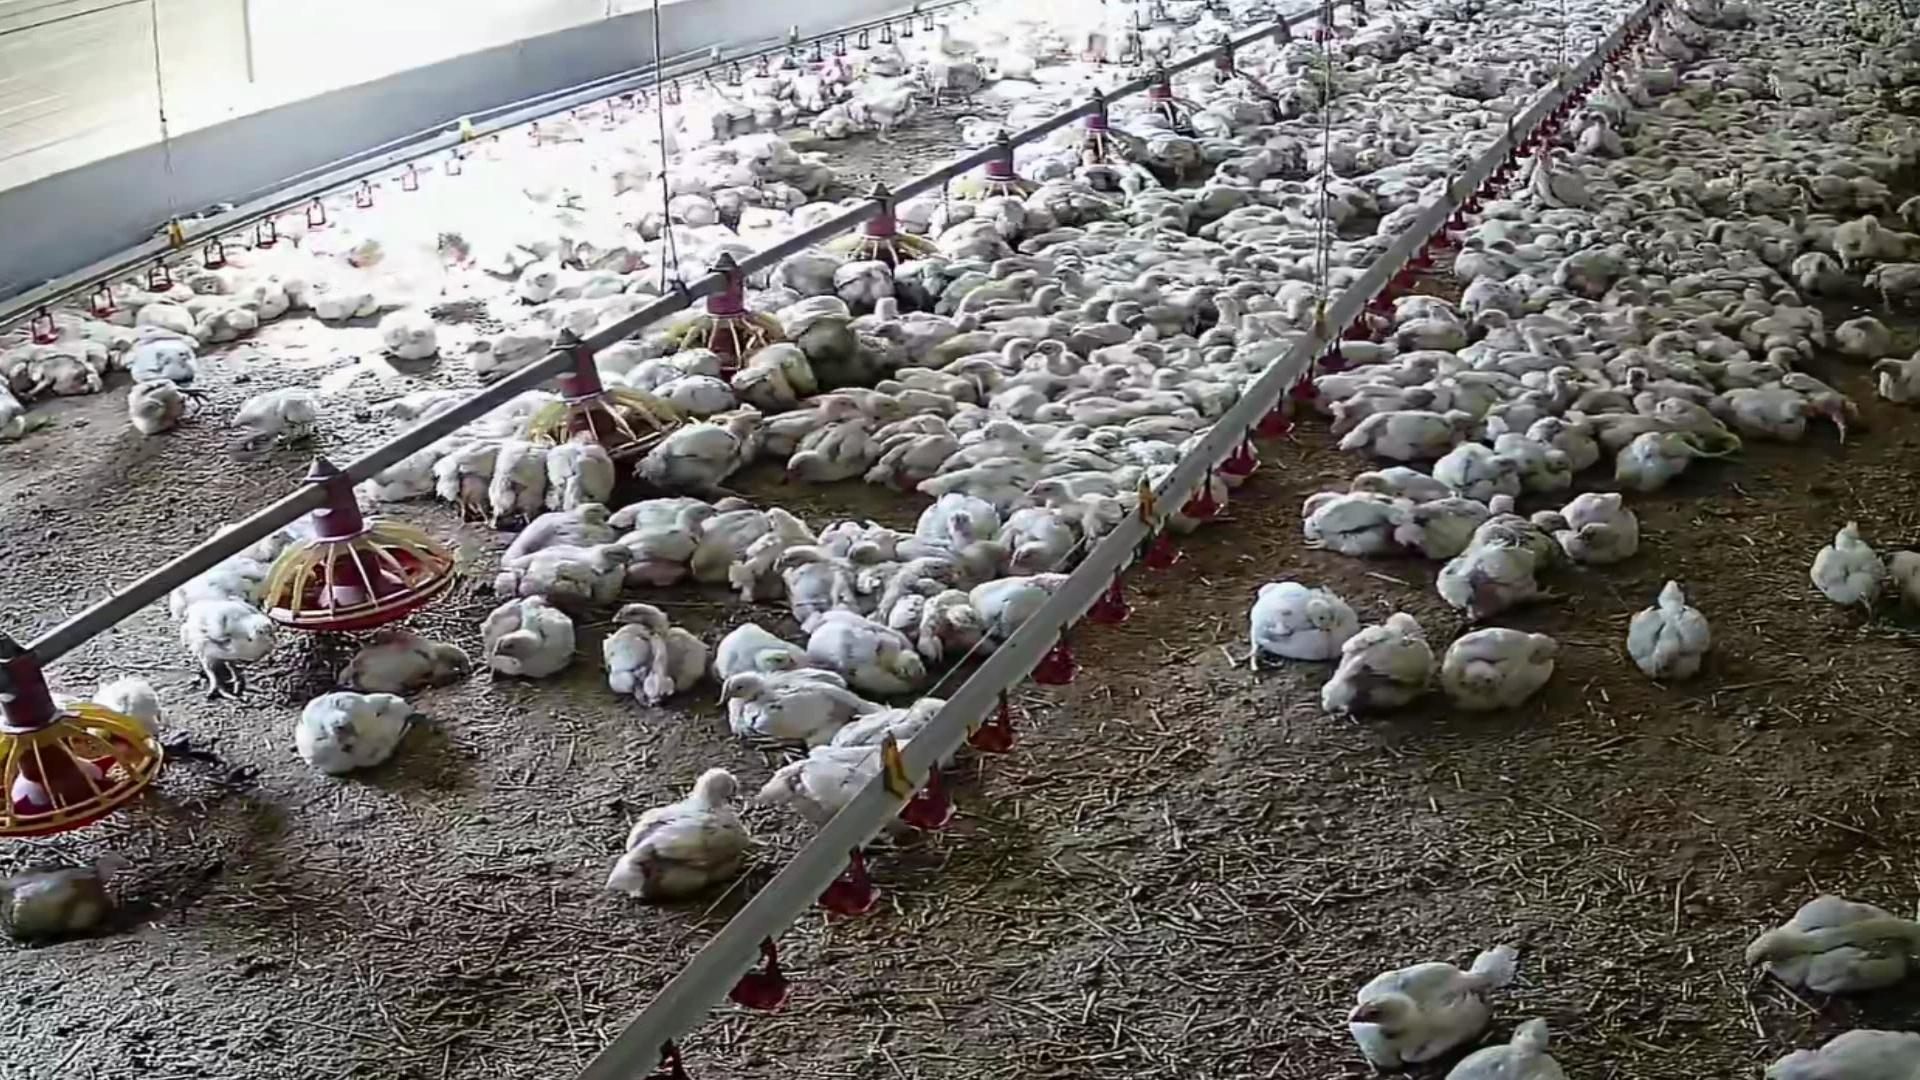poussin: (774, 735, 922, 873), (1737, 889, 1919, 998), (604, 767, 750, 895), (1353, 947, 1520, 1047), (1444, 615, 1568, 719), (0, 847, 129, 944), (1403, 1006, 1572, 1080), (1332, 607, 1433, 724), (1238, 574, 1352, 676), (595, 600, 702, 698), (717, 670, 856, 745), (179, 609, 294, 699), (837, 703, 969, 779), (291, 696, 413, 778), (1763, 1017, 1916, 1080), (804, 612, 919, 695), (1633, 580, 1712, 696), (1344, 401, 1490, 463), (472, 593, 583, 674), (600, 498, 715, 574), (505, 538, 640, 600), (717, 498, 818, 582), (1808, 518, 1883, 621), (1305, 479, 1402, 556), (1604, 427, 1734, 484), (658, 417, 748, 495), (960, 578, 1081, 633), (501, 501, 617, 558), (1419, 447, 1538, 502), (342, 634, 467, 686), (1382, 491, 1474, 559), (95, 670, 170, 753), (687, 491, 764, 571), (1423, 546, 1545, 596), (713, 608, 800, 678), (1319, 381, 1445, 427), (1721, 390, 1834, 442), (785, 539, 858, 617), (1556, 498, 1652, 556), (1506, 357, 1601, 415), (171, 556, 266, 613), (1477, 440, 1589, 487), (935, 504, 997, 587), (435, 438, 502, 513), (928, 462, 1040, 505), (1305, 356, 1439, 392), (560, 430, 621, 506), (1146, 467, 1222, 527), (886, 418, 955, 485), (1782, 368, 1855, 430), (1484, 504, 1575, 554), (372, 439, 446, 500), (1634, 401, 1745, 440), (790, 435, 880, 484), (471, 331, 555, 382), (1001, 508, 1069, 571), (1564, 401, 1665, 443), (865, 556, 948, 608), (1606, 327, 1692, 376), (1031, 477, 1121, 524), (508, 434, 556, 517), (1394, 301, 1470, 353), (911, 592, 972, 658), (208, 526, 297, 570), (1792, 249, 1854, 310), (785, 291, 851, 348), (880, 319, 960, 364), (247, 385, 316, 436), (877, 372, 953, 418), (1137, 282, 1217, 326), (1349, 475, 1456, 506), (1398, 343, 1493, 378), (1437, 373, 1526, 411), (382, 309, 444, 363), (862, 84, 922, 138), (1829, 319, 1896, 367), (1075, 299, 1146, 344), (1869, 348, 1919, 411), (833, 256, 897, 306), (964, 338, 1034, 382), (309, 278, 378, 323), (978, 286, 1069, 320), (756, 349, 823, 396), (963, 269, 1038, 310), (1627, 367, 1712, 402), (1563, 247, 1630, 290), (1536, 156, 1592, 208), (654, 377, 740, 410), (1460, 274, 1548, 306), (951, 256, 1022, 294), (1873, 257, 1920, 314), (898, 247, 948, 299), (135, 343, 207, 377), (1845, 215, 1884, 277), (1468, 307, 1531, 345), (1890, 534, 1920, 613), (574, 232, 632, 273), (945, 216, 1000, 260), (128, 382, 194, 418), (931, 22, 980, 70), (862, 291, 913, 338), (1151, 140, 1212, 177), (1382, 290, 1466, 316), (1738, 319, 1832, 343), (1068, 465, 1135, 498), (1700, 164, 1754, 204), (796, 393, 856, 430), (844, 526, 913, 558), (1071, 361, 1131, 397), (0, 378, 36, 439), (1586, 105, 1626, 160), (807, 100, 861, 140), (972, 421, 1039, 452), (731, 373, 800, 404), (1688, 237, 1760, 266), (1193, 291, 1250, 328), (1792, 175, 1855, 208), (1646, 18, 1700, 57), (782, 257, 844, 290), (595, 290, 657, 323), (1259, 291, 1316, 327), (1460, 235, 1503, 281), (1335, 332, 1407, 360), (534, 303, 599, 334), (1276, 80, 1325, 120), (782, 162, 843, 194), (1659, 7, 1717, 40), (1800, 150, 1869, 178), (1192, 338, 1247, 371), (985, 186, 1023, 233), (1042, 335, 1091, 372), (198, 303, 260, 332), (47, 355, 104, 386), (1730, 183, 1813, 204), (1047, 295, 1109, 323), (620, 364, 687, 389), (956, 115, 1009, 146), (1557, 295, 1615, 323), (1257, 276, 1319, 301), (1019, 223, 1080, 248), (949, 334, 1015, 356), (1472, 218, 1543, 237), (1207, 284, 1265, 307), (1606, 280, 1667, 302), (1054, 419, 1098, 450), (1573, 316, 1627, 342), (1727, 208, 1784, 232), (1536, 330, 1578, 361), (670, 352, 723, 377), (522, 260, 555, 299), (1721, 363, 1779, 385), (1553, 148, 1611, 170), (1490, 237, 1560, 256), (1006, 99, 1056, 124), (1780, 208, 1817, 241), (1087, 419, 1124, 452), (799, 199, 835, 232), (1626, 187, 1663, 219), (1175, 406, 1216, 434), (1180, 335, 1232, 356), (1651, 142, 1725, 157), (869, 390, 907, 418), (1681, 318, 1731, 339), (258, 272, 278, 324), (1610, 70, 1640, 104), (1127, 348, 1176, 369), (1146, 372, 1184, 398), (1527, 421, 1577, 440), (1894, 191, 1920, 227), (1724, 74, 1771, 94), (1582, 339, 1619, 364), (742, 215, 791, 233), (1581, 92, 1613, 120), (1629, 44, 1655, 76), (1640, 128, 1691, 145), (1055, 266, 1091, 290), (1621, 173, 1669, 190), (1568, 108, 1593, 141), (1654, 286, 1688, 310), (1648, 239, 1681, 261), (1596, 73, 1621, 102), (1614, 291, 1646, 314), (1364, 174, 1395, 196), (1676, 74, 1716, 91), (1084, 219, 1124, 236), (1535, 289, 1582, 302), (1693, 289, 1741, 302), (1370, 96, 1398, 119), (1033, 405, 1075, 419), (1143, 272, 1174, 291), (1692, 129, 1737, 142), (1192, 190, 1225, 207), (1196, 247, 1232, 262), (1230, 244, 1262, 261), (1356, 131, 1385, 149), (1708, 112, 1753, 124), (1623, 225, 1640, 256), (1149, 237, 1174, 257), (1276, 195, 1304, 212), (1767, 348, 1803, 361), (1357, 148, 1379, 167), (1677, 65, 1721, 74), (1360, 120, 1386, 133), (1841, 53, 1858, 73), (1652, 112, 1684, 123), (1908, 115, 1920, 141), (1655, 314, 1668, 336), (1313, 171, 1341, 182), (1586, 232, 1601, 252), (1060, 257, 1079, 272), (1218, 164, 1241, 175), (1362, 91, 1383, 103), (1565, 236, 1577, 255), (1278, 189, 1303, 195)
